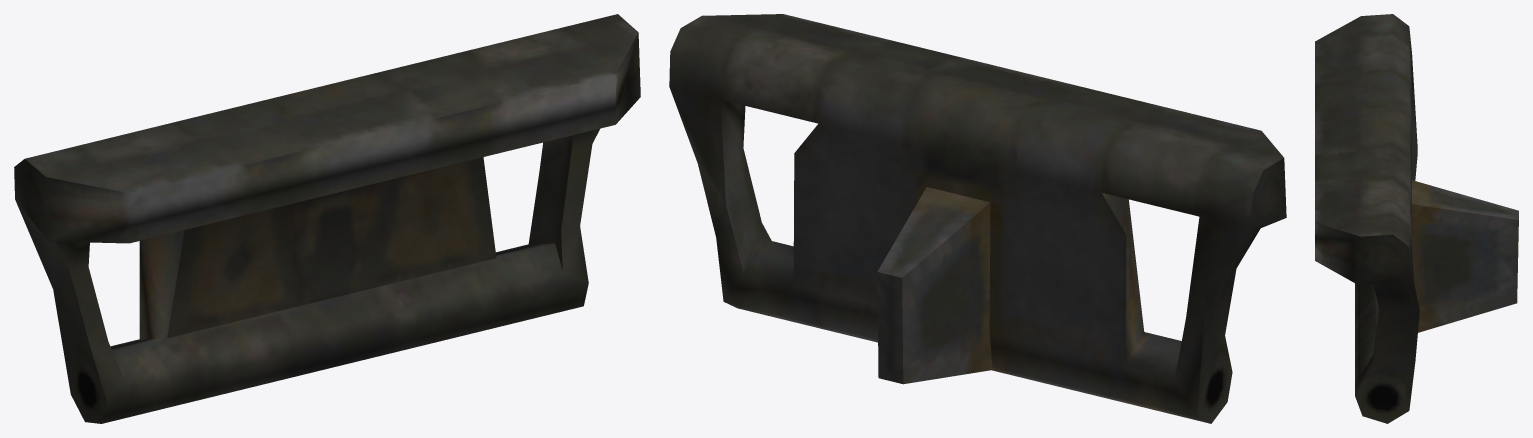
3 renders of one model, left to right at view 1: azimuth 30°, elevation 25°; view 2: azimuth 150°, elevation 25°; view 3: azimuth 270°, elevation 25°, orthographic. The views are drawn at different scales.
Visible parts, largest first — view 1: set_0_group_0; view 2: set_0_group_0; view 3: set_0_group_0.
Boxes of the visible parts, left/top/right/bottom form: set_0_group_0: left=14, top=14, right=640, bottom=423; set_0_group_0: left=669, top=14, right=1286, bottom=423; set_0_group_0: left=1315, top=14, right=1518, bottom=423.
Size of the model in its own units: 0.3018 by 0.1335 by 0.1178.
1 material, 1 textured.
